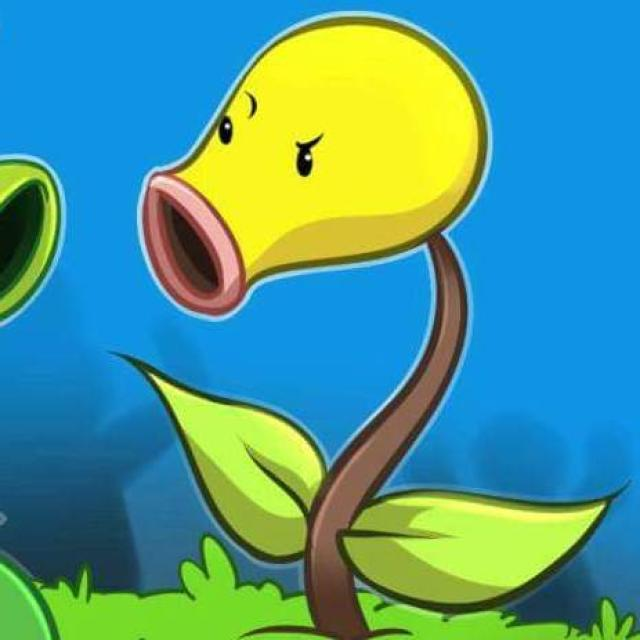Bellsprout: (138, 6, 504, 609)
